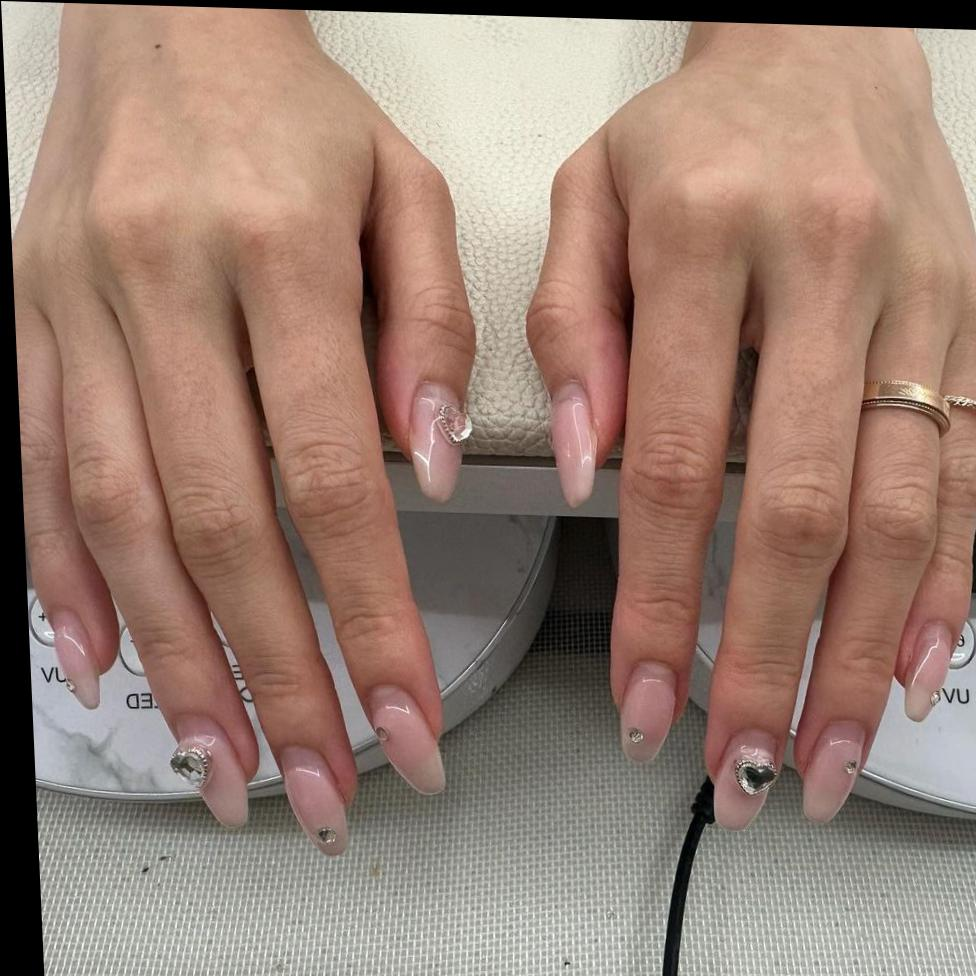nail: (167, 712, 250, 827), (366, 680, 447, 794), (404, 378, 475, 502), (797, 715, 872, 825), (278, 742, 351, 855), (708, 725, 784, 830), (616, 656, 681, 762), (548, 383, 601, 508), (900, 616, 960, 722), (48, 603, 102, 708), (27, 593, 56, 645)
